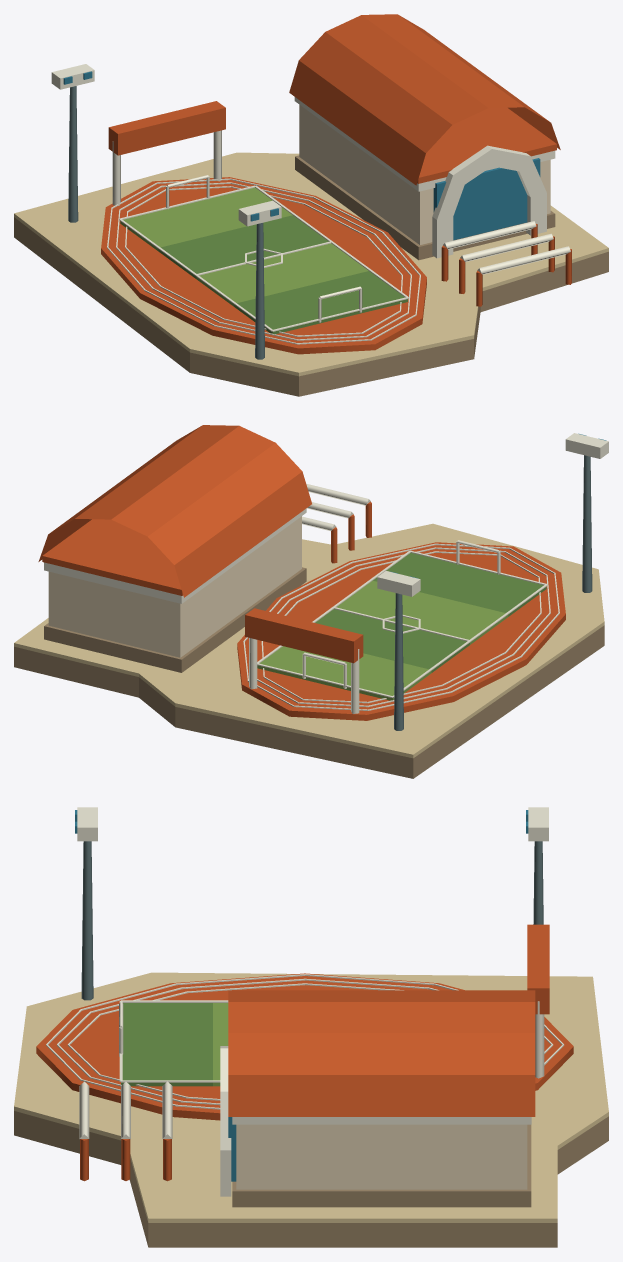
Rendered from training-center-lv2.glb.
3 renders of one model, top to bottom at view 1: azimuth 30°, elevation 25°; view 2: azimuth 150°, elevation 25°; view 3: azimuth 270°, elevation 25°, orthographic. The views are drawn at different scales.
Visible parts, largest first — view 1: foundation_sand, gym_barrel_roof_orange, running_track_orange, foundation_stoneDark, pitch_grass, pitch_grassLight, training_hall_cream, training_hall_roof_orange, gym_front_arch_white, running_lanes_white, gym_front_glass, timing_gate_orange (+9 smaller); view 2: foundation_sand, gym_barrel_roof_orange, running_track_orange, training_hall_cream, foundation_stoneDark, pitch_grass, pitch_grassLight, training_hall_roof_orange, running_lanes_white, training_hall_stoneDark, timing_gate_orange, lighting_iron (+7 smaller); view 3: gym_barrel_roof_orange, foundation_sand, training_hall_cream, foundation_stoneDark, running_track_orange, pitch_grass, training_hall_stoneDark, running_lanes_white, lighting_iron, training_hall_white, timing_gate_orange, hurdles_white (+6 smaller).
Part boxes in pixels (<box>): foundation_sand: <box>14,152,608,376</box>; gym_barrel_roof_orange: <box>289,14,560,185</box>; running_track_orange: <box>101,177,426,354</box>; foundation_stoneDark: <box>14,217,608,396</box>; pitch_grass: <box>158,215,407,334</box>; pitch_grassLight: <box>120,187,368,306</box>; training_hall_cream: <box>299,105,550,244</box>; training_hall_roof_orange: <box>417,107,556,183</box>; gym_front_arch_white: <box>432,145,546,258</box>; running_lanes_white: <box>107,178,420,344</box>; gym_front_glass: <box>433,158,540,240</box>; timing_gate_orange: <box>108,101,225,155</box>; foundation_sand: <box>14,523,604,758</box>; gym_barrel_roof_orange: <box>38,425,311,597</box>; running_track_orange: <box>237,542,565,720</box>; training_hall_cream: <box>48,516,301,657</box>; foundation_stoneDark: <box>14,625,604,778</box>; pitch_grass: <box>315,553,546,672</box>; pitch_grassLight: <box>257,580,508,700</box>; training_hall_roof_orange: <box>42,519,182,595</box>; running_lanes_white: <box>243,543,559,710</box>; training_hall_stoneDark: <box>44,567,306,672</box>; timing_gate_orange: <box>245,608,363,663</box>; lighting_iron: <box>394,455,592,730</box>; gym_barrel_roof_orange: <box>228,990,535,1116</box>; foundation_sand: <box>14,972,608,1222</box>; training_hall_cream: <box>236,1124,527,1189</box>; foundation_stoneDark: <box>14,1111,608,1247</box>; running_track_orange: <box>36,973,573,1120</box>; pitch_grass: <box>121,1003,212,1086</box>; training_hall_stoneDark: <box>232,1124,531,1207</box>; running_lanes_white: <box>46,974,564,1109</box>; lighting_iron: <box>81,841,543,1000</box>; training_hall_white: <box>232,1117,531,1124</box>; timing_gate_orange: <box>527,924,549,1014</box>; hurdles_white: <box>79,1081,172,1138</box>.
Bounding box in the file's own units: 0.9785 × 0.389 × 1.
